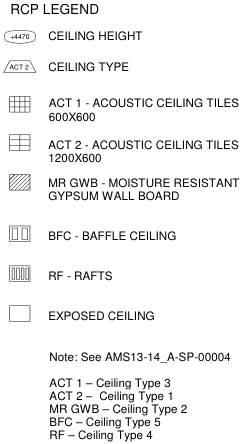hatch: (2, 26, 39, 46), (2, 57, 38, 77), (7, 302, 33, 324), (6, 94, 33, 115), (7, 132, 34, 153), (7, 264, 34, 284), (7, 223, 33, 243), (6, 172, 33, 191)
label: (46, 135, 239, 165), (45, 175, 240, 204), (45, 95, 239, 124), (45, 226, 178, 245), (46, 306, 157, 326), (47, 58, 136, 74), (44, 266, 118, 284), (46, 29, 148, 42)
